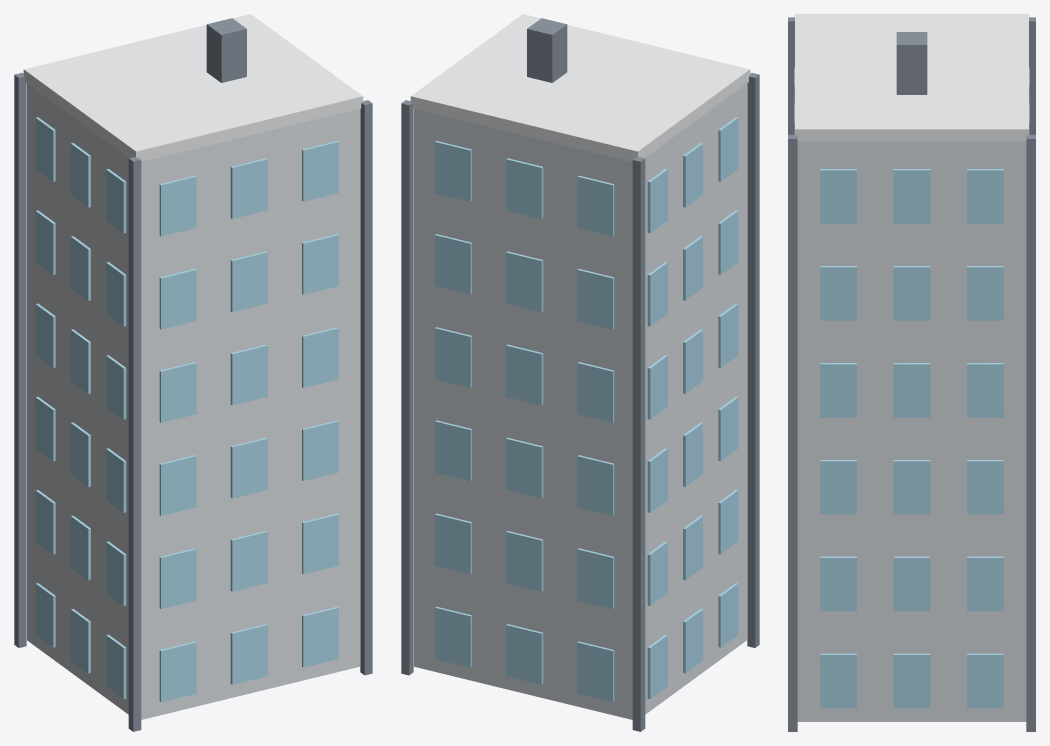
File: palace.glb
3 views of the same model, side by side, from view 1: azimuth 30°, elevation 25°; view 2: azimuth 150°, elevation 25°; view 3: azimuth 270°, elevation 25° (orthographic). The views are drawn at different scales.
Size of the model in its own units: 7.53 by 18.77 by 6.49.
